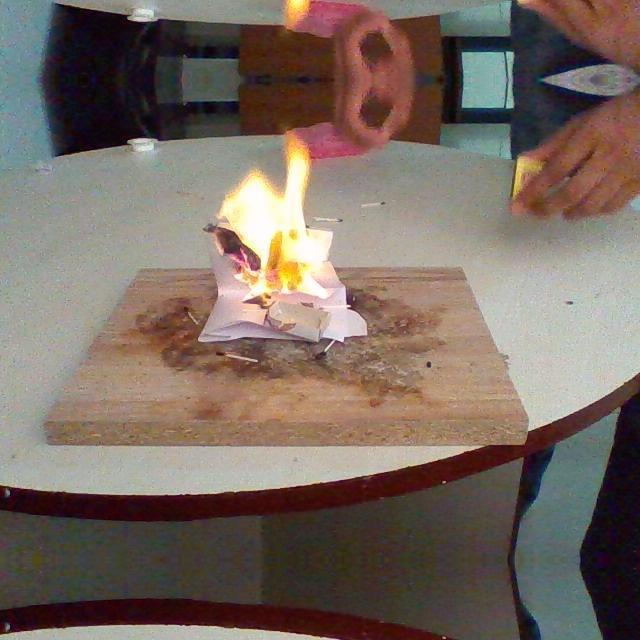smoke: (216, 132, 330, 296)
